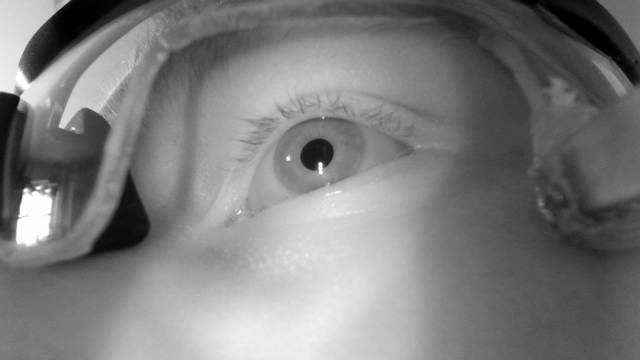pupil: (300, 138, 334, 171)
